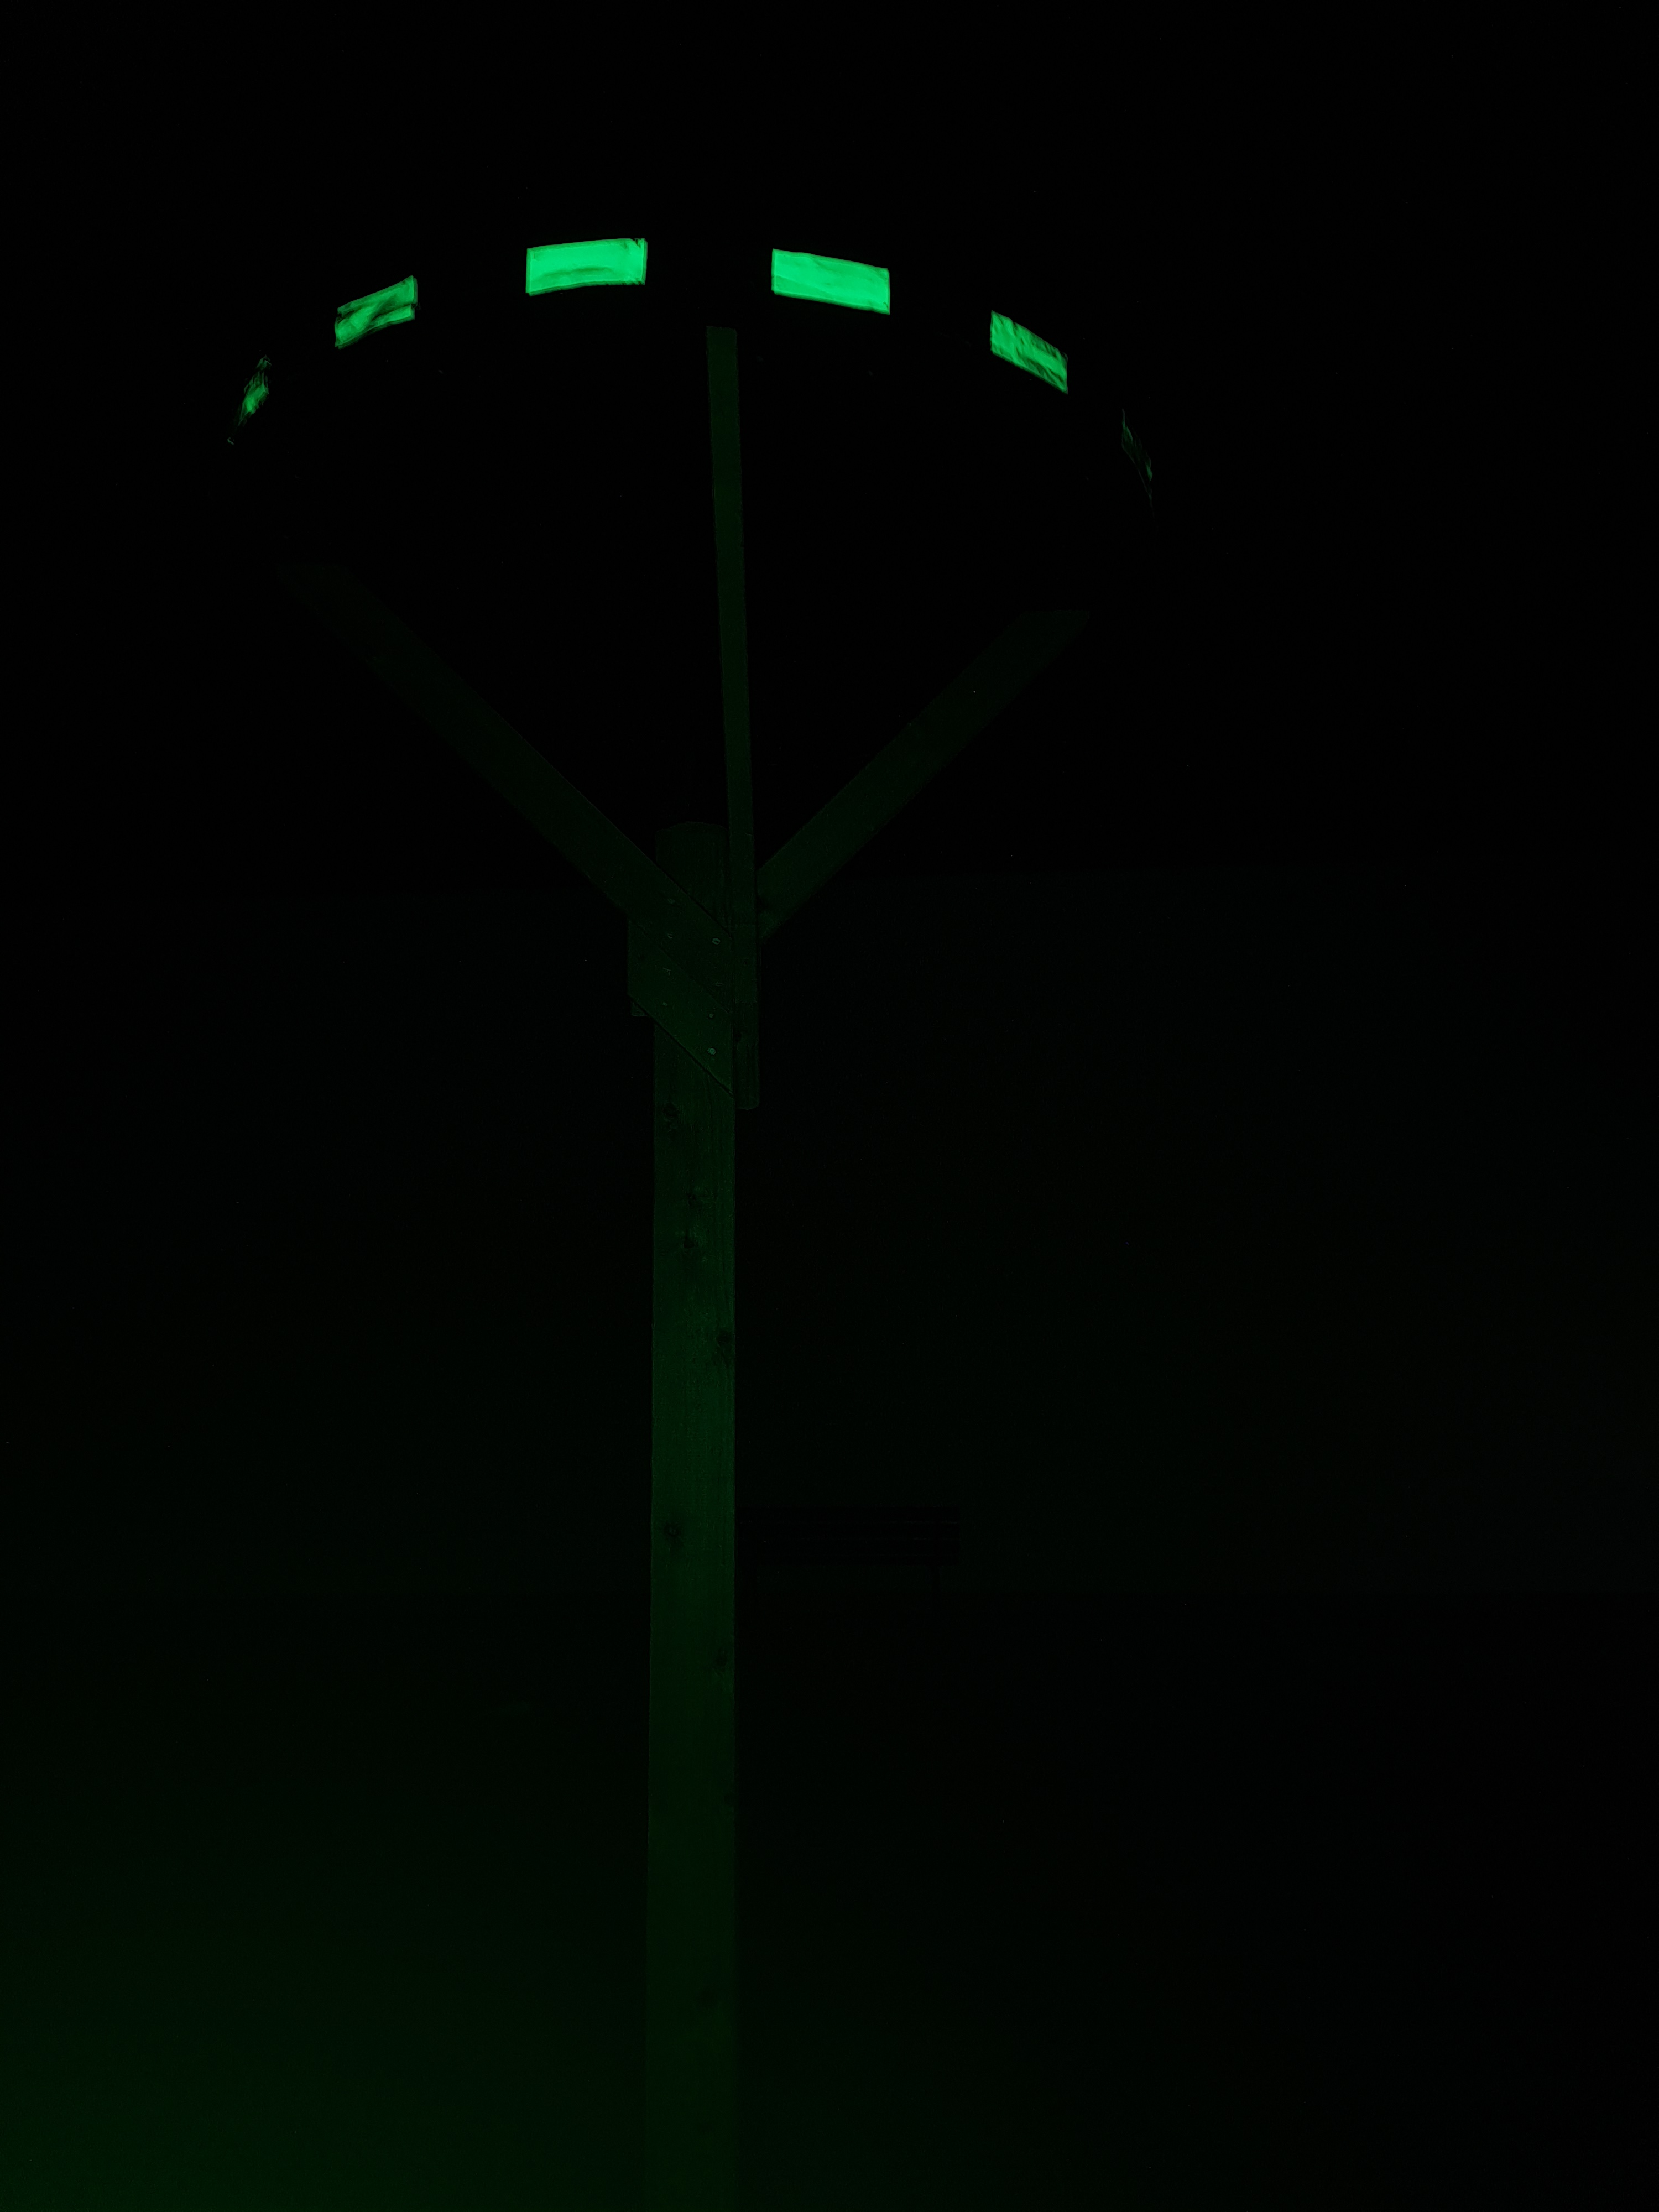hoop: (246, 223, 1066, 399)
